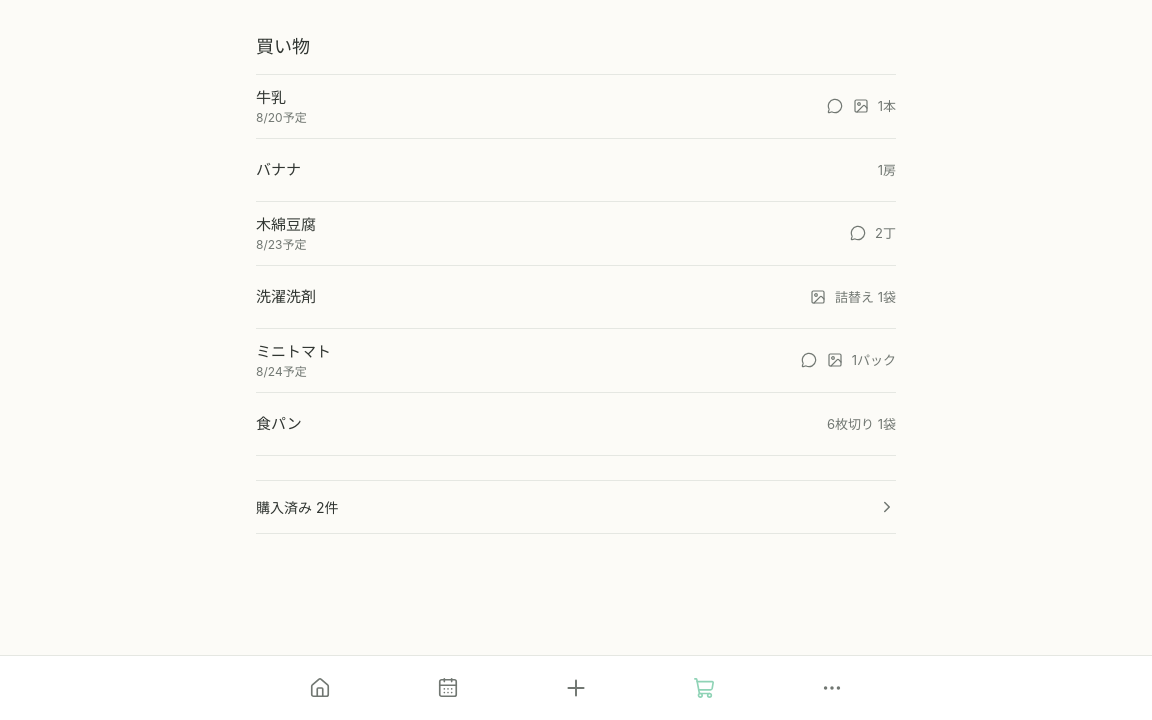
Scenario: ShoppingPage › expands one active row inline and closes the previous row
Click the button with class "shopping-item-row__main" showing "牛乳 8/20予定 1本". click: [271, 98]
box: [256,75,896,138]
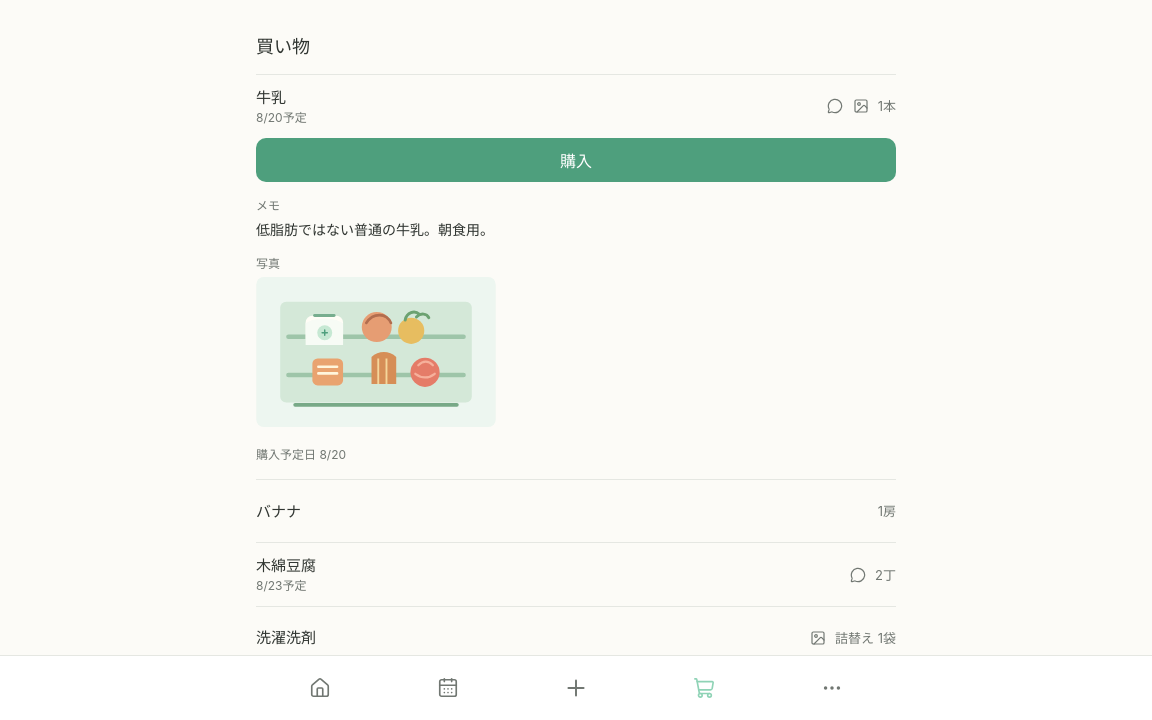
Check: the button "購入" is shown, box [256,138,896,182]
Check: the text "低脂肪ではない普通の牛乳。朝食用。" is shown, box [256,221,494,238]
Click the button with class "shopping-item-row__main" showing "木綿豆腐 8/23予定 2丁". click: [286, 566]
box: [256,543,896,606]
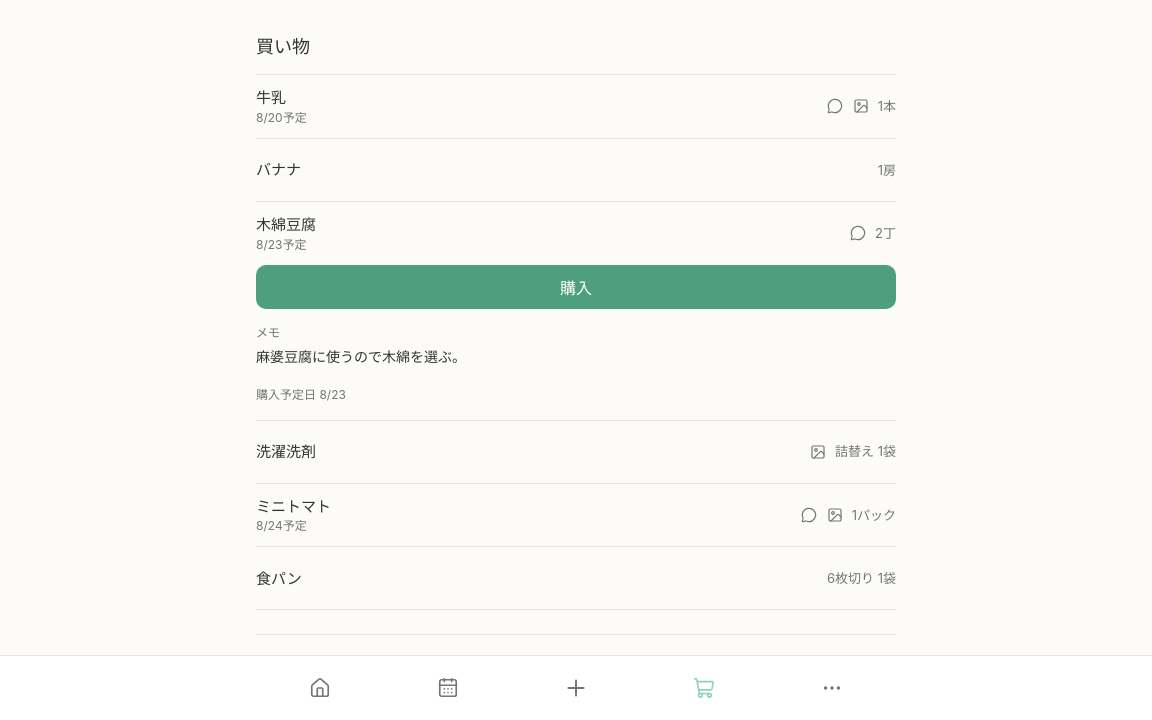
Check: the text "低脂肪ではない普通の牛乳。朝食用。" is gone
Check: the text "麻婆豆腐に使うので木綿を選ぶ。" is shown, box [256,348,466,365]
Click the button with class "shopping-item-row__main" showing "木綿豆腐 8/23予定 2丁". click: [286, 224]
box: [256,202,896,265]
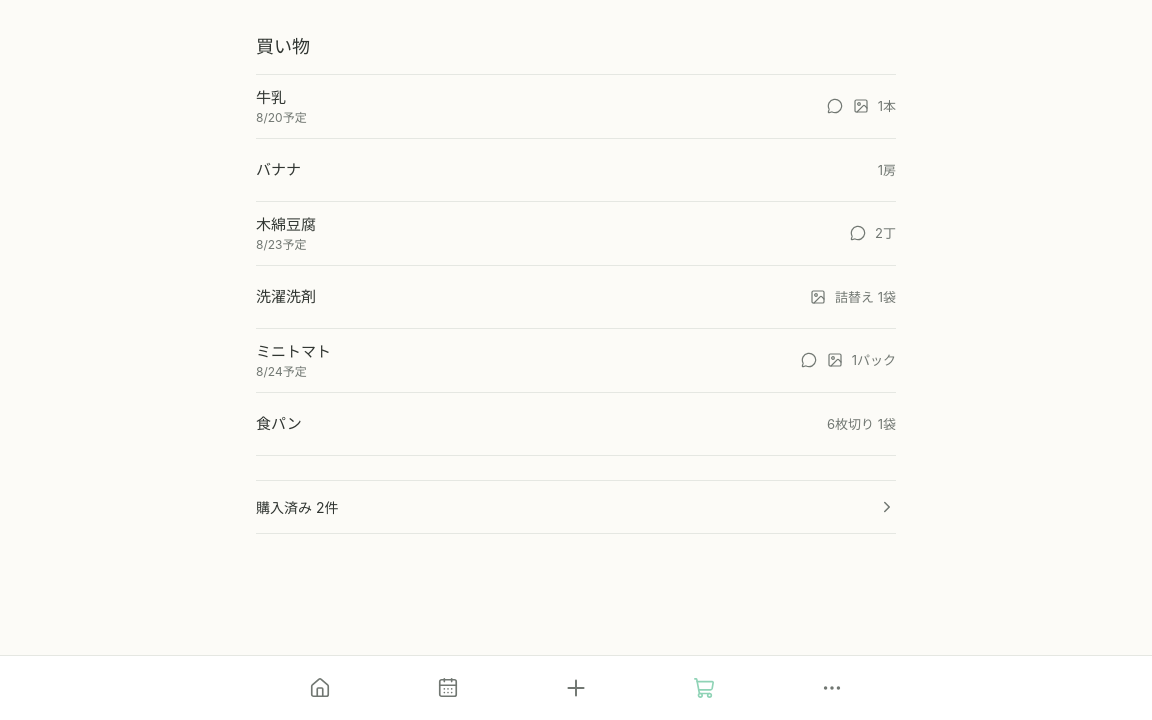
Check: the text "麻婆豆腐に使うので木綿を選ぶ。" is gone
